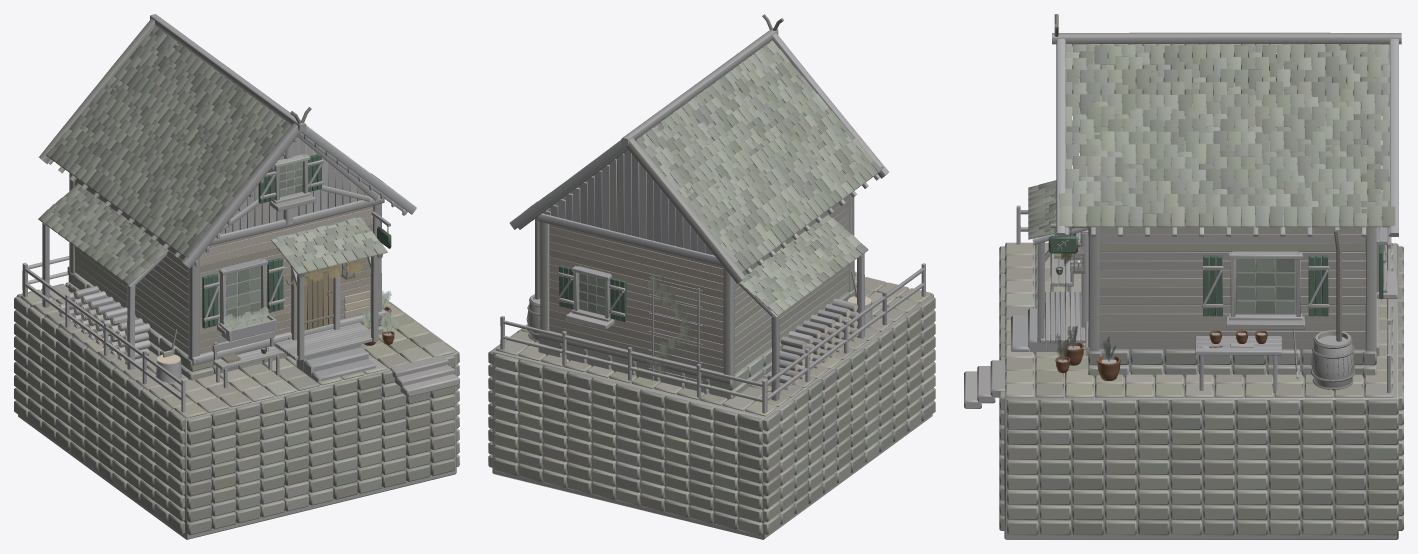
The model's file is herbalist.glb.
3 renders of one model, left to right at view 1: azimuth 30°, elevation 25°; view 2: azimuth 150°, elevation 25°; view 3: azimuth 270°, elevation 25°, orthographic. The views are drawn at different scales.
Parts seen in each view (by area): view 1: Hillside retaining terrace and flagstones__tav_stone, Individual cedar roof shakes, Oak structure and weathered clapboards__cottage_wood, Roof rafters and carved bargeboards__tav_oak, Oak structure and weathered clapboards__tav_oak, Hillside retaining terrace and flagstones__tav_mortar, Stone foundation and porch steps__tav_stone, Windows shutters and oak door__tav_oak, Daily life objects__tav_log_bark, Covered entrance and wood store__tav_oak, Downhill garden railing__tav_oak, Windows shutters and oak door__cottage_window (+9 smaller); view 2: Hillside retaining terrace and flagstones__tav_stone, Individual cedar roof shakes, Oak structure and weathered clapboards__cottage_wood, Roof rafters and carved bargeboards__tav_oak, Oak structure and weathered clapboards__tav_oak, Downhill garden railing__tav_oak, Hillside retaining terrace and flagstones__tav_mortar, Stone foundation and porch steps__tav_stone, Daily life objects__tav_log_bark, Kitchen herbs flowers and drying bundles__tav_leaf, Covered entrance and wood store__tav_oak, Windows shutters and oak door__tav_oak (+4 smaller); view 3: Hillside retaining terrace and flagstones__tav_stone, Individual cedar roof shakes, Oak structure and weathered clapboards__cottage_wood, Roof rafters and carved bargeboards__tav_oak, Hillside retaining terrace and flagstones__tav_mortar, Stone foundation and porch steps__tav_stone, Oak structure and weathered clapboards__tav_oak, Windows shutters and oak door__tav_oak, Windows shutters and oak door__cottage_window, Windows shutters and oak door__tav_paint, Daily life objects__tav_board, Covered entrance and wood store__tav_oak_smooth (+10 smaller).
Boxes of the visible parts, x1,y1,x2,y2 form: Hillside retaining terrace and flagstones__tav_stone: (14,282,459,535); Individual cedar roof shakes: (38,26,406,285); Oak structure and weathered clapboards__cottage_wood: (74,59,378,354); Roof rafters and carved bargeboards__tav_oak: (39,14,416,268); Oak structure and weathered clapboards__tav_oak: (68,46,384,365); Hillside retaining terrace and flagstones__tav_mortar: (18,283,456,539); Stone foundation and porch steps__tav_stone: (68,271,383,382); Windows shutters and oak door__tav_oak: (203,154,340,340); Daily life objects__tav_log_bark: (59,285,181,383); Covered entrance and wood store__tav_oak: (42,223,378,369); Downhill garden railing__tav_oak: (22,256,185,412); Windows shutters and oak door__cottage_window: (226,162,302,319); Hillside retaining terrace and flagstones__tav_stone: (488,275,935,535); Individual cedar roof shakes: (523,40,883,316); Oak structure and weathered clapboards__cottage_wood: (543,60,848,373); Roof rafters and carved bargeboards__tav_oak: (509,14,888,283); Oak structure and weathered clapboards__tav_oak: (538,73,854,384); Downhill garden railing__tav_oak: (500,264,925,413); Hillside retaining terrace and flagstones__tav_mortar: (492,284,932,539); Stone foundation and porch steps__tav_stone: (538,290,855,399); Daily life objects__tav_log_bark: (767,298,872,389); Kitchen herbs flowers and drying bundles__tav_leaf: (647,275,693,378); Covered entrance and wood store__tav_oak: (739,253,864,400); Windows shutters and oak door__tav_oak: (557,266,625,321); Hillside retaining terrace and flagstones__tav_stone: (964,242,1403,535); Individual cedar roof shakes: (1028,44,1395,239); Oak structure and weathered clapboards__cottage_wood: (1099,128,1375,349); Roof rafters and carved bargeboards__tav_oak: (1052,14,1401,234); Hillside retaining terrace and flagstones__tav_mortar: (1004,244,1398,539); Stone foundation and porch steps__tav_stone: (1011,301,1376,377); Oak structure and weathered clapboards__tav_oak: (1085,53,1379,351); Windows shutters and oak door__tav_oak: (1079,78,1387,329); Windows shutters and oak door__cottage_window: (1236,259,1294,313); Windows shutters and oak door__tav_paint: (1079,103,1383,316); Daily life objects__tav_board: (1061,232,1354,390); Covered entrance and wood store__tav_oak_smooth: (1040,291,1085,343).
Bounding box in the file's own units: 7.92 × 10.35 × 9.26.
